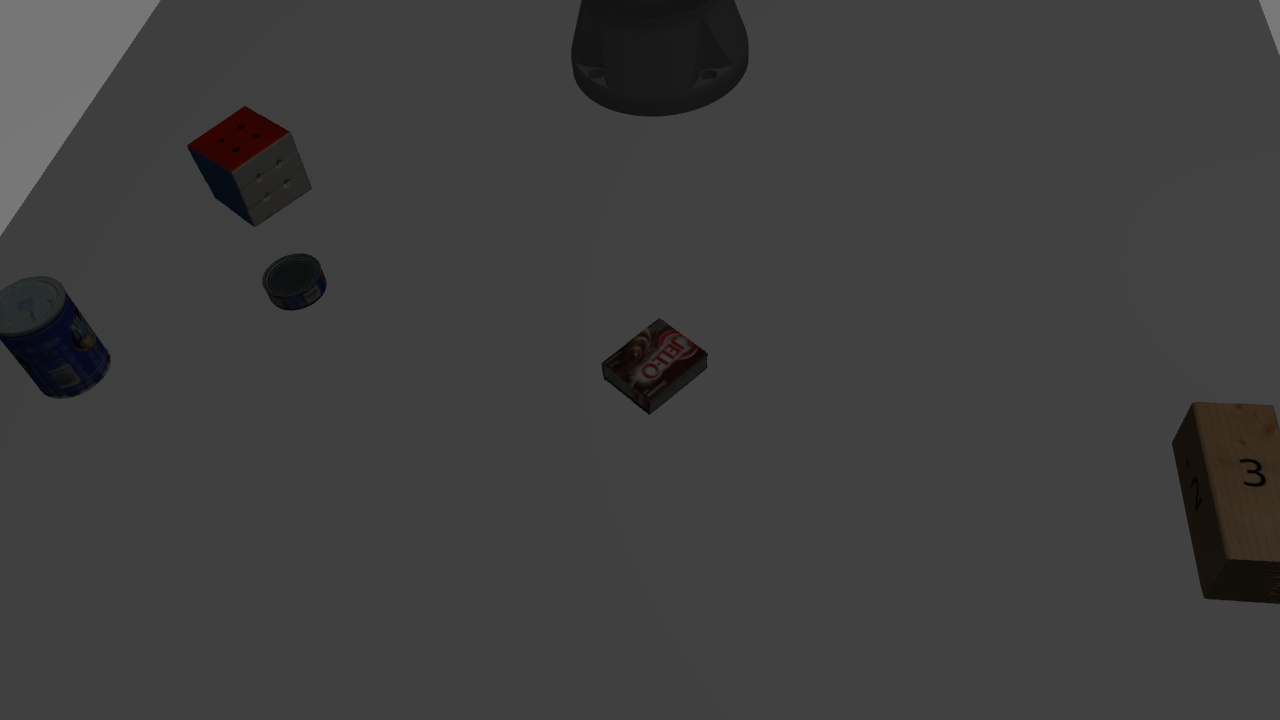master_chef_can: (3, 270, 116, 413)
pudding_box: (598, 316, 711, 412)
rubiks_cube: (176, 101, 314, 230)
tuna_fish_can: (258, 251, 333, 314)
wood_block: (1163, 392, 1275, 610)
